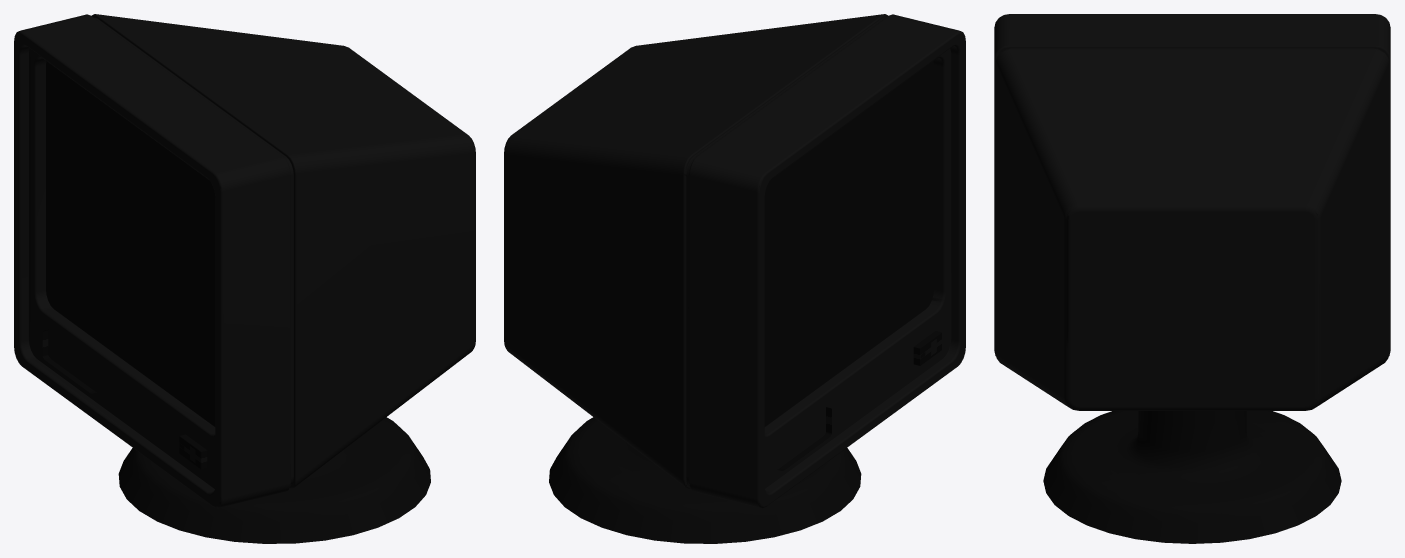
The model's file is TerminalFBX.fbx.
3 views of the same model, side by side, from view 1: azimuth 30°, elevation 25°; view 2: azimuth 150°, elevation 25°; view 3: azimuth 270°, elevation 25° (orthographic). The views are drawn at different scales.
Visible parts, largest first — view 1: Cube, Circle, Plane; view 2: Cube, Circle, Plane; view 3: Cube, Circle.
Part boxes in pixels (left/top/right/bottom): Cube: left=14, top=14, right=475, bottom=508; Circle: left=118, top=417, right=430, bottom=543; Plane: left=179, top=434, right=207, bottom=469; Cube: left=504, top=14, right=965, bottom=508; Circle: left=549, top=417, right=861, bottom=543; Plane: left=913, top=331, right=941, bottom=365; Cube: left=994, top=14, right=1390, bottom=410; Circle: left=1043, top=411, right=1341, bottom=543.
Bounding box in the file's own units: 163 × 220 × 200.
Materials: 4 (4 with a texture image).
